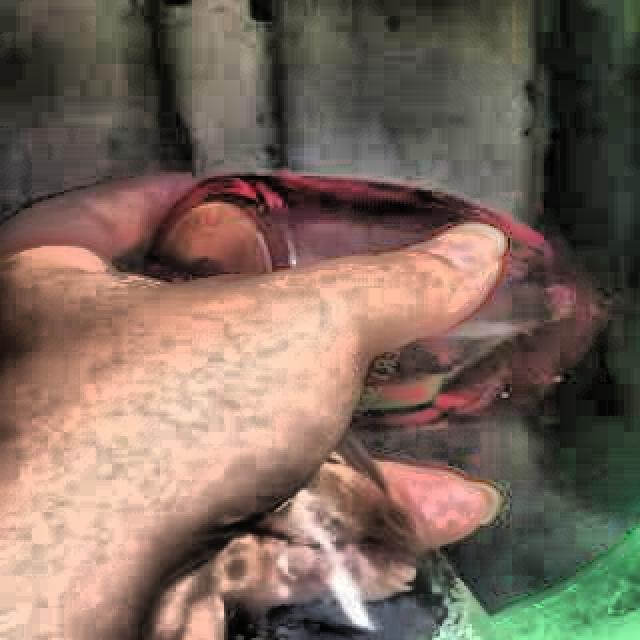glass: (147, 176, 595, 423), (221, 438, 487, 640)
